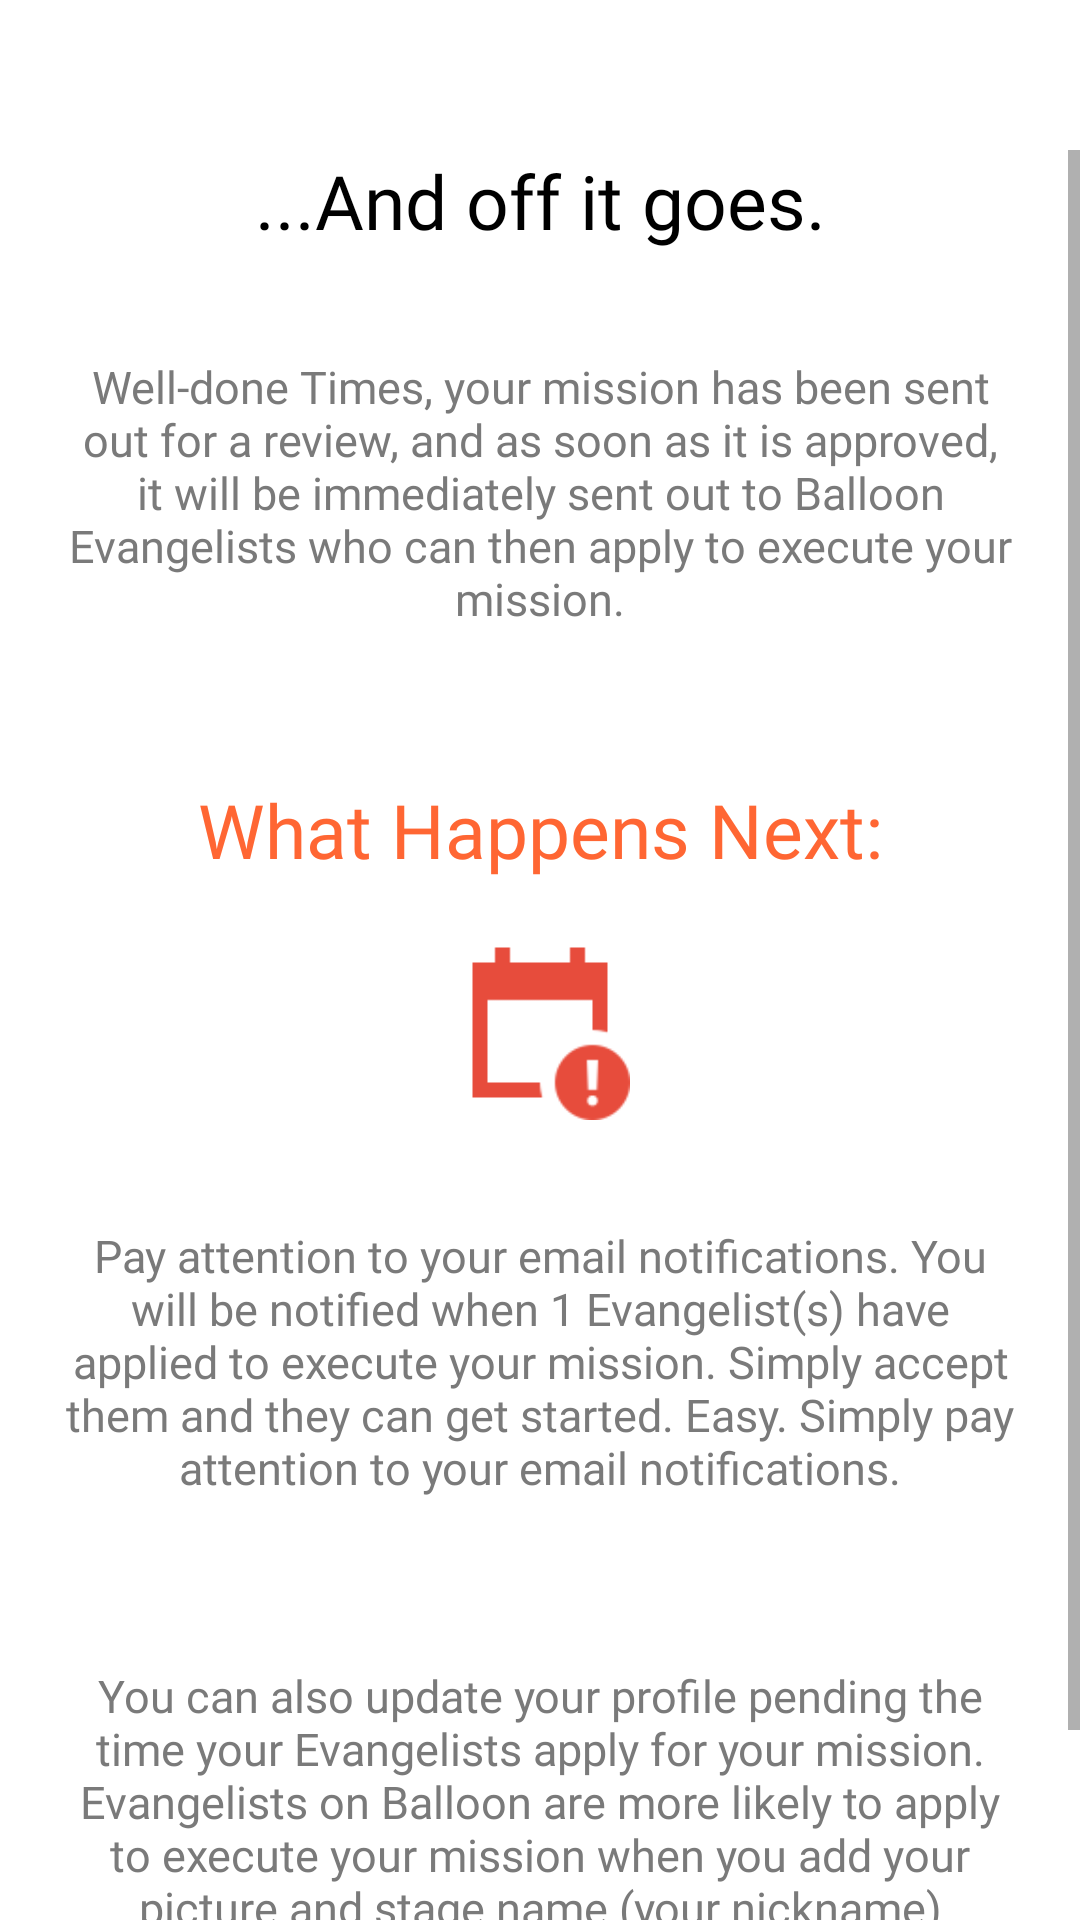

Icon bounding boxes for this 1080px x 1920px phone screenshot, format box=[x1, y1, x2, y2]:
importime: box=[472, 947, 630, 1120]
